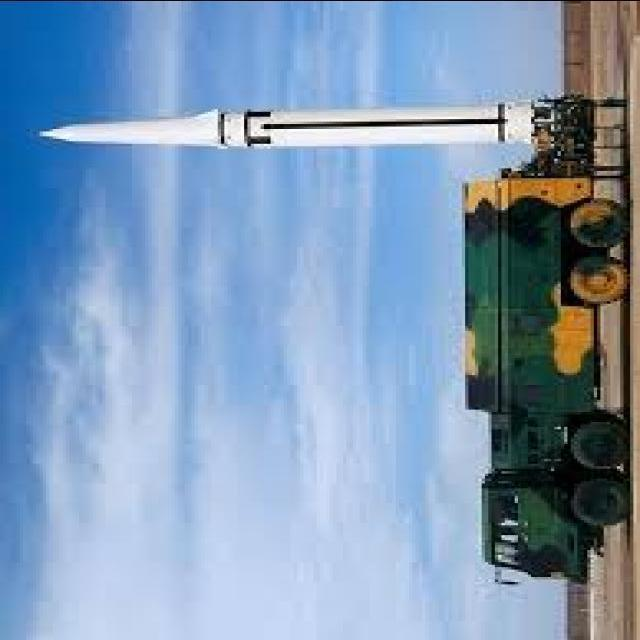missile: (38, 99, 558, 153)
